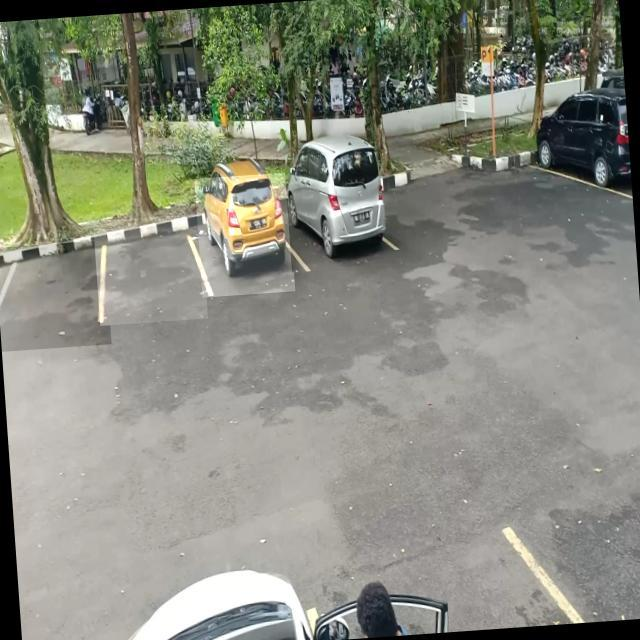empty: (93, 213, 208, 325), (0, 240, 111, 351)
occupied: (284, 150, 392, 272), (194, 172, 295, 297)
